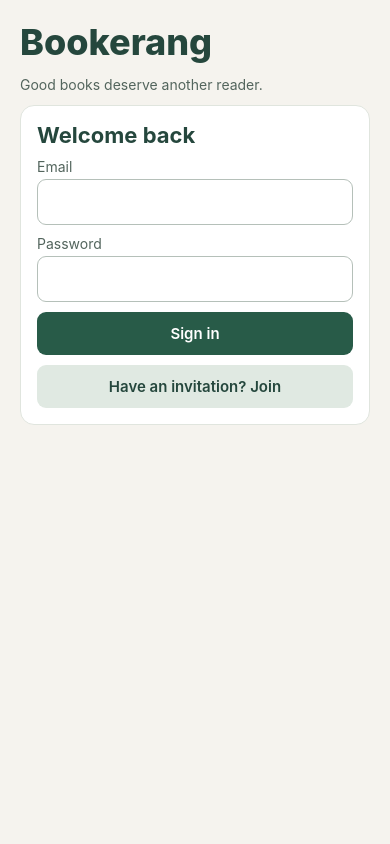
Test: sign in and request location only on discovery
Type "reader@example.test" into the field named "Email" at (195, 202), box [37, 179, 353, 225]
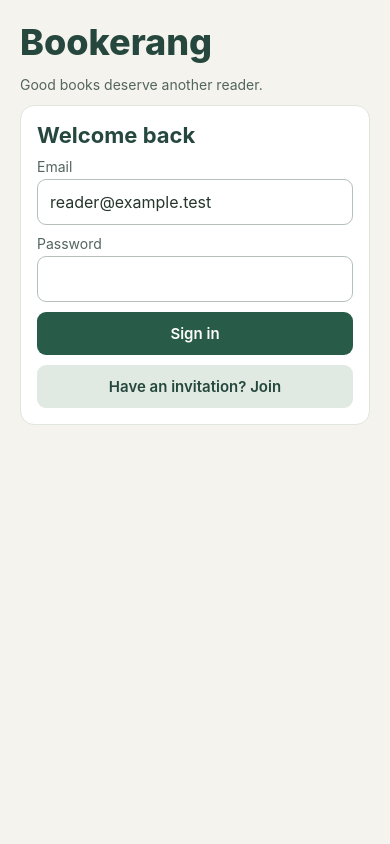
Type "example-password" into the password field named "Password" at (195, 279), box [37, 256, 353, 302]
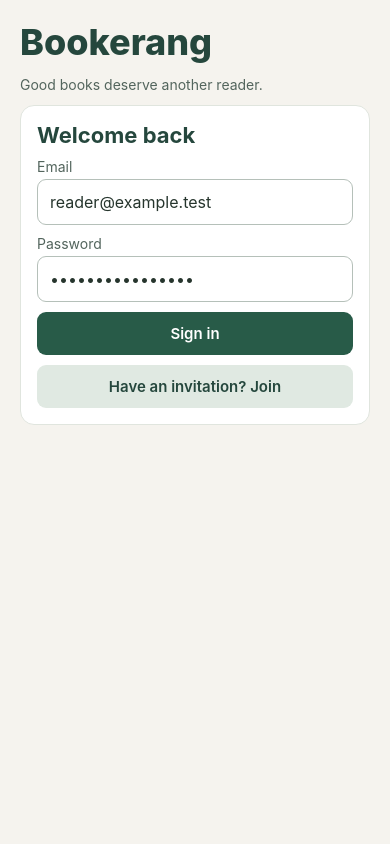
Click the button "Sign in" at (195, 334), box [37, 312, 353, 355]
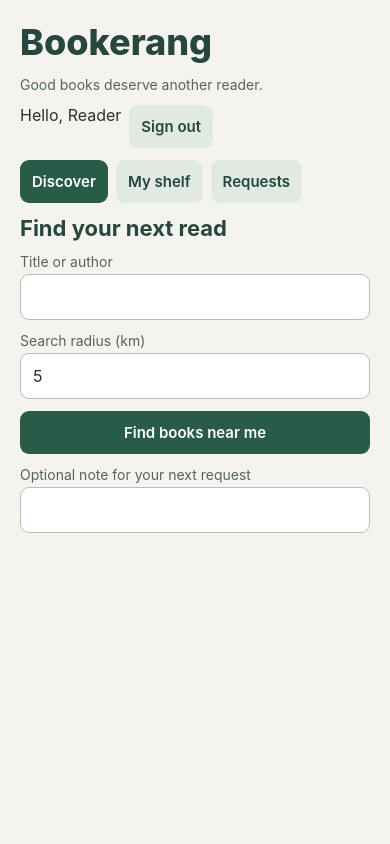
Check: the text "Hello, Reader" is shown, box [20, 105, 121, 125]
Click the button "Find books near me" at (195, 432), box [20, 411, 370, 454]
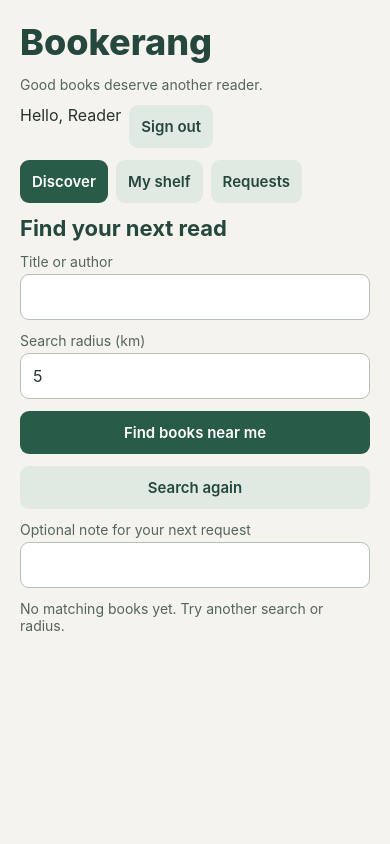
Check: the text "No matching books yet. Try another search or radius." is shown, box [20, 600, 370, 634]
